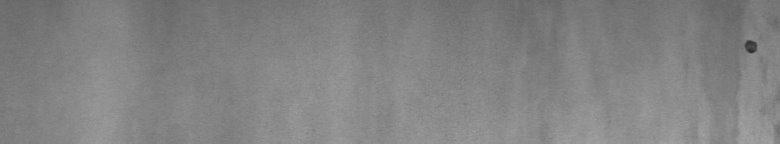fi: (740, 32, 776, 135)
